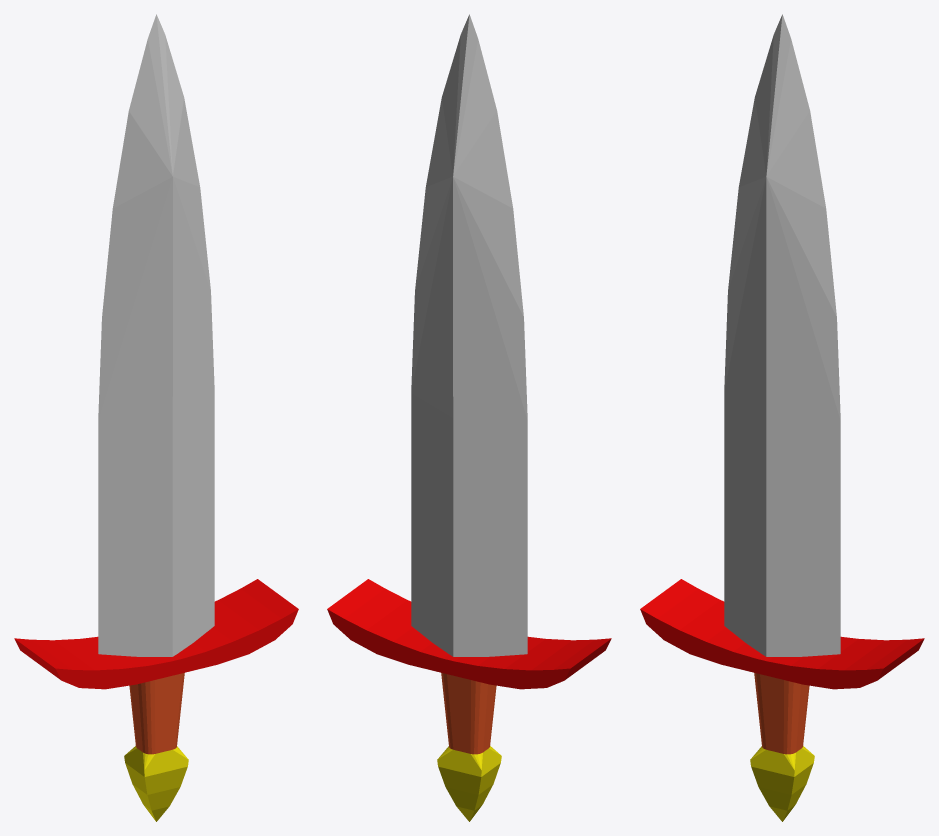
File: Sword.fbx
3 renders of one model, left to right at view 1: azimuth 30°, elevation 25°; view 2: azimuth 150°, elevation 25°; view 3: azimuth 330°, elevation 25°, orthographic.
Parts seen in each view (by area): view 1: Tip; view 2: Tip; view 3: Tip.
Part boxes in pixels (box(x1,y1,x2,y2)): Tip: box(14, 14, 298, 821); Tip: box(327, 14, 611, 821); Tip: box(640, 14, 924, 821).
Size of the model in its own units: 1544 by 4895 by 453.
